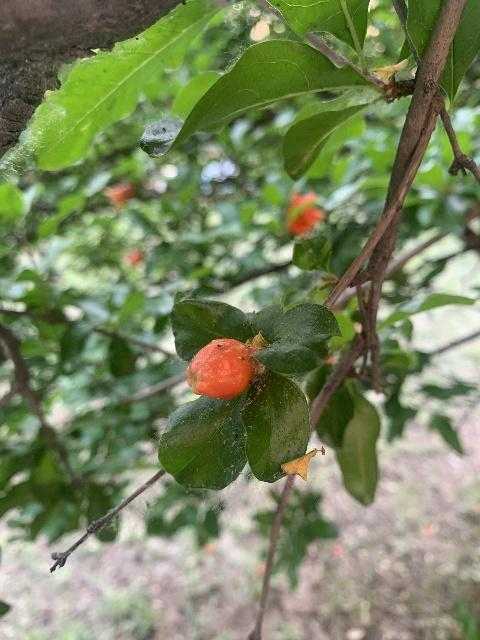bud: (186, 337, 258, 400)
flower: (284, 191, 324, 237), (101, 184, 136, 209)
